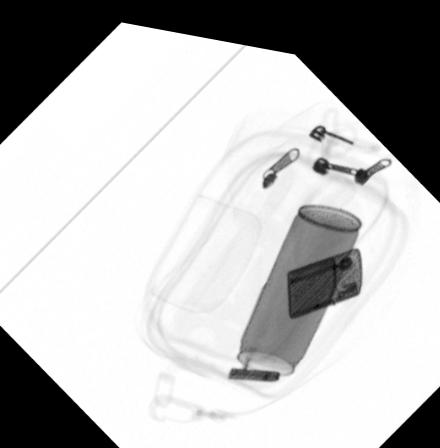Lighter: (287, 233, 363, 309)
